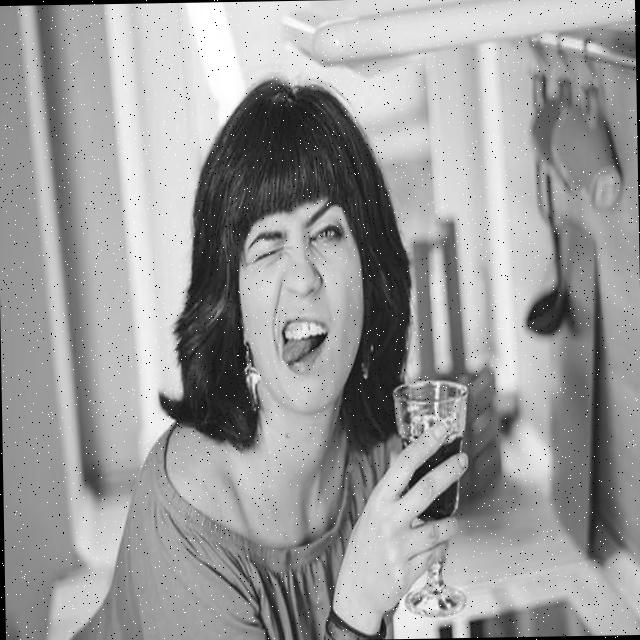Disgust: (236, 196, 370, 415)
